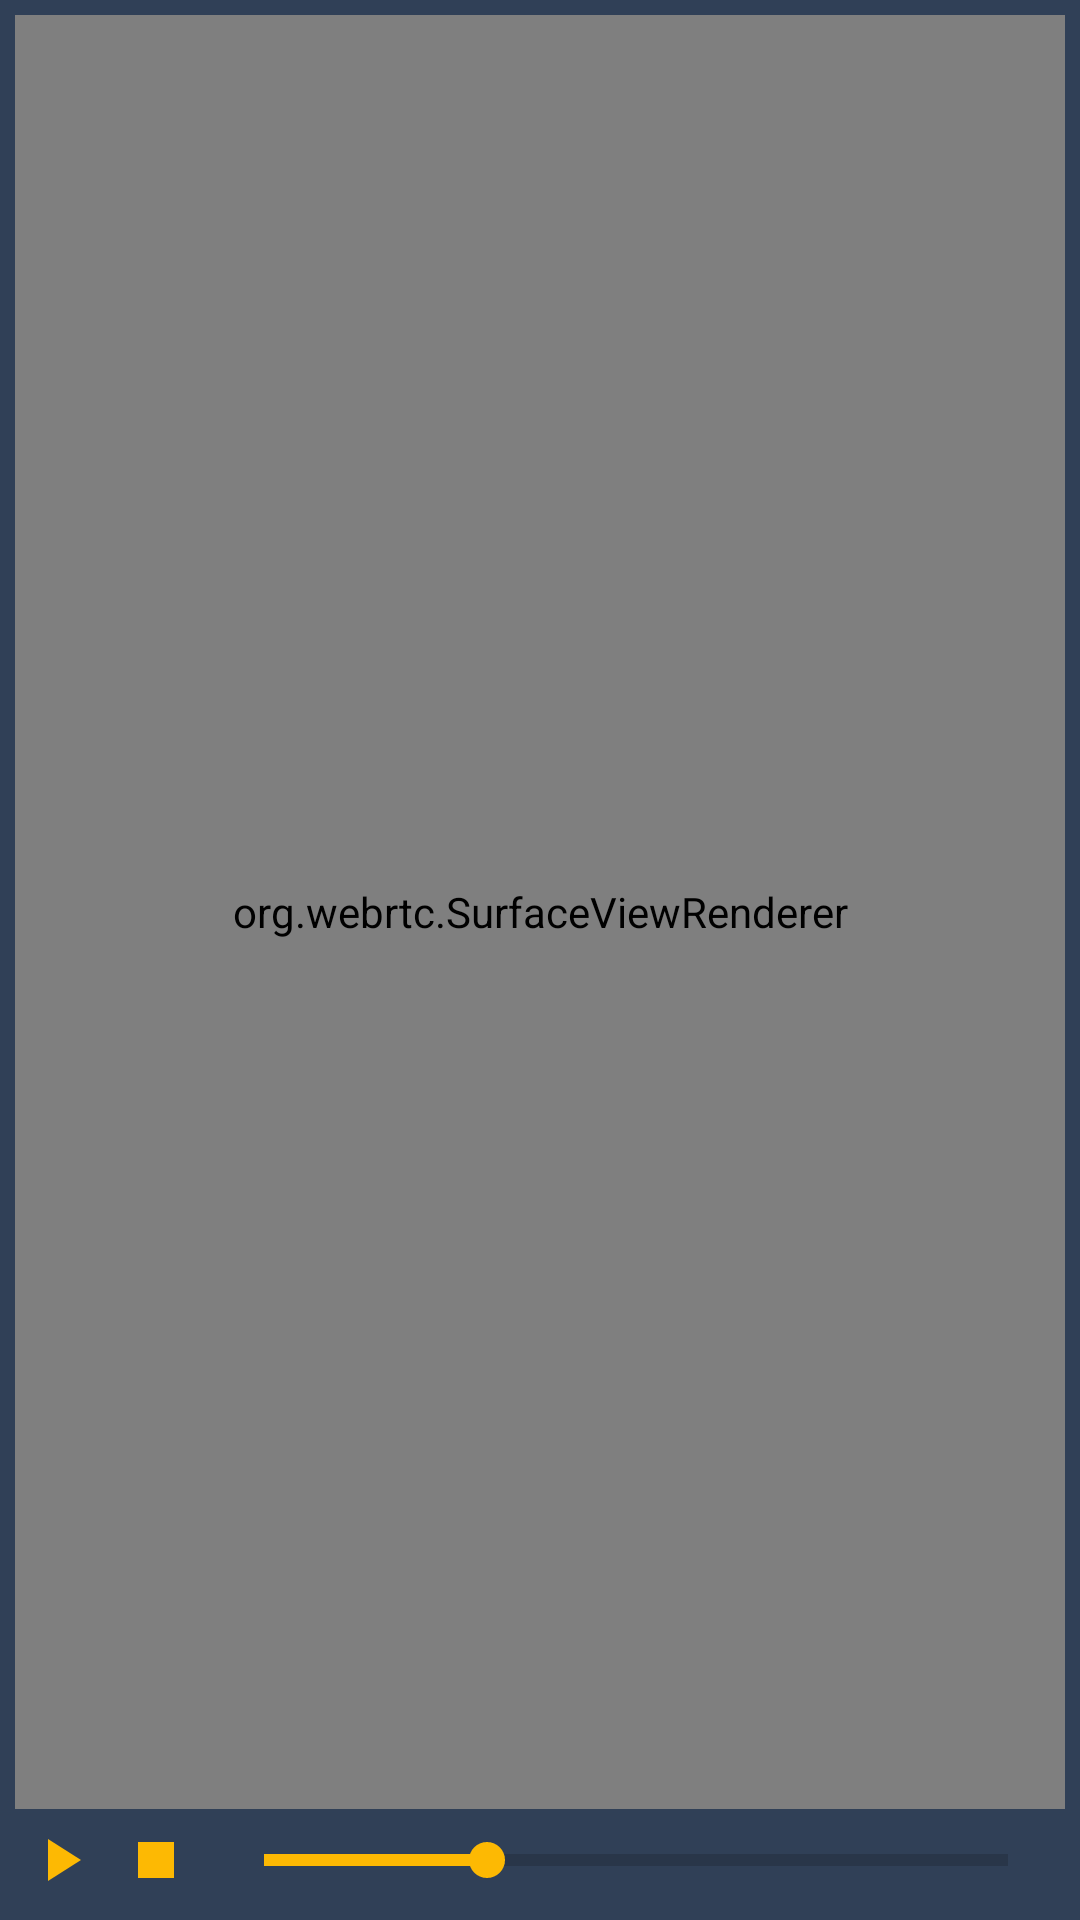

Icon bounding boxes for this 1080*1920 phone screenshot, format (x1, y1, x2, y2):
play arrow: (48, 1839, 81, 1881)
